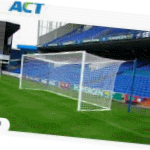goals: (18, 49, 115, 114)
